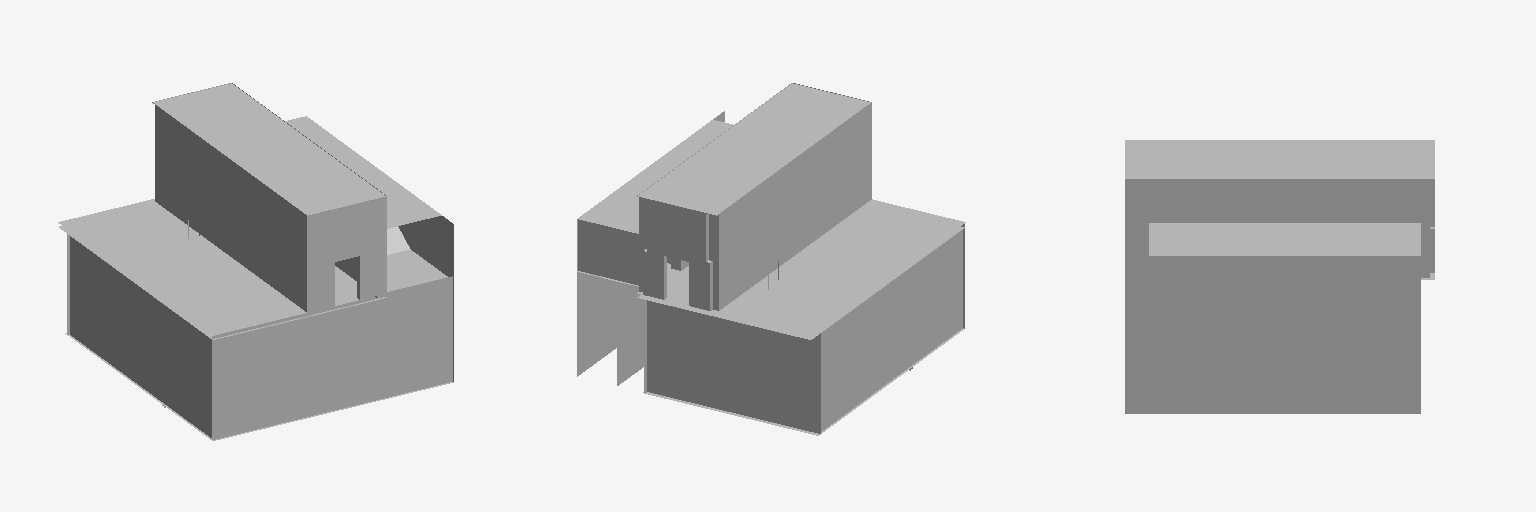
The model's file is LC_cont2_012.obj.
3 views of the same model, side by side, from view 1: azimuth 30°, elevation 25°; view 2: azimuth 150°, elevation 25°; view 3: azimuth 270°, elevation 25° (orthographic).
Parts seen in each view (by area): view 1: LC_cont2_012; view 2: LC_cont2_012; view 3: LC_cont2_012.
Part boxes in pixels (left/top/right/bottom): LC_cont2_012: left=58, top=83, right=453, bottom=440; LC_cont2_012: left=577, top=83, right=965, bottom=435; LC_cont2_012: left=1125, top=140, right=1434, bottom=413.
Bounding box in the file's own units: 18.4 × 15.08 × 20.48.